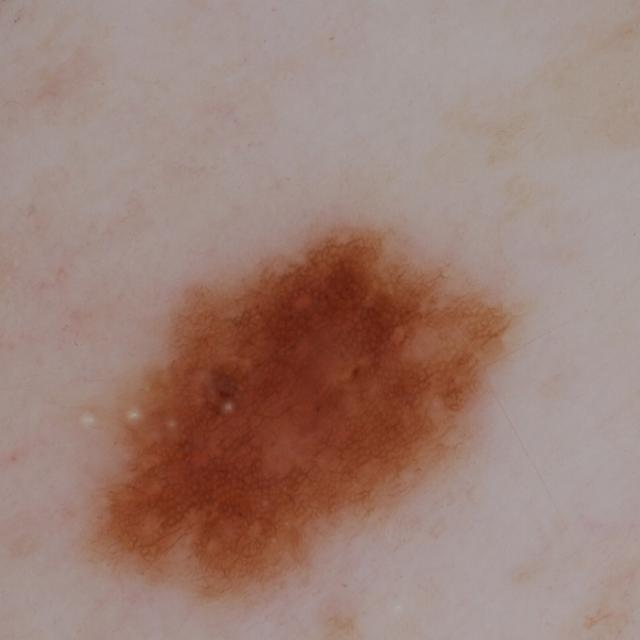Melanoma: (107, 228, 538, 640)
